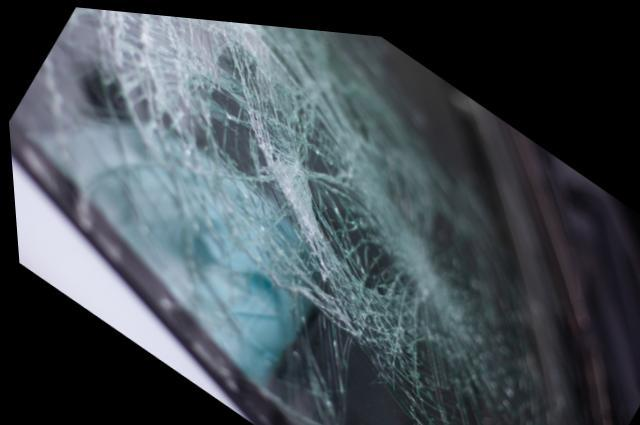glass shatter: (7, 6, 587, 425)
